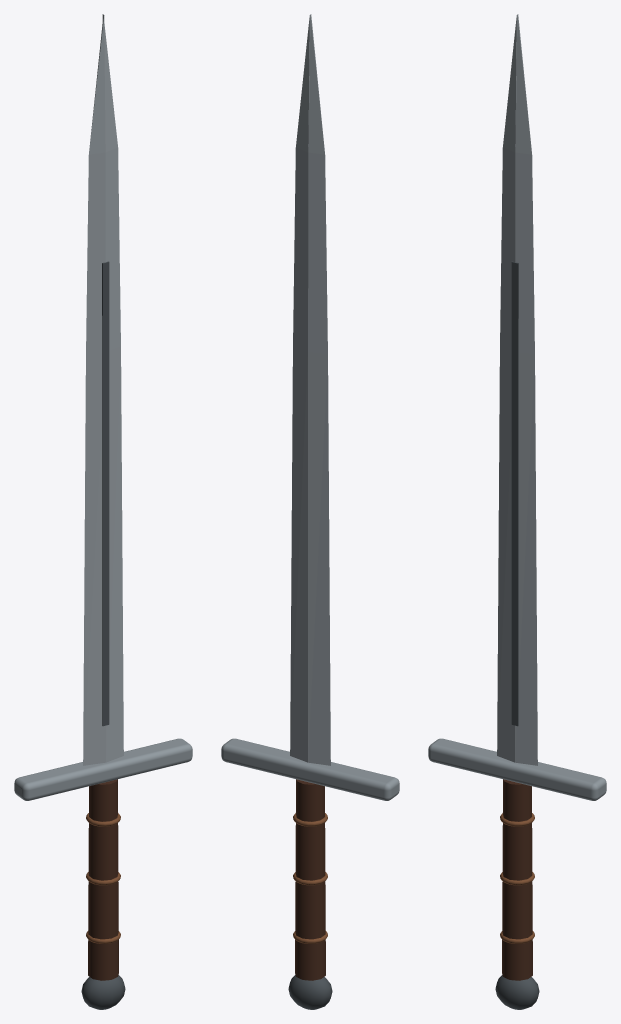
Rendered from longsword.glb.
The picture shows the model from 3 angles, left to right: view 1: azimuth 30°, elevation 25°; view 2: azimuth 150°, elevation 25°; view 3: azimuth 330°, elevation 25°; orthographic projection.
Parts seen in each view (by area): view 1: longsword-blade, longsword-grip, longsword-crossguard, longsword-fuller, longsword-pommel; view 2: longsword-blade, longsword-grip, longsword-crossguard, longsword-pommel; view 3: longsword-blade, longsword-grip, longsword-crossguard, longsword-fuller, longsword-pommel.
Boxes of the visible parts, x1,y1,x2,y2 form: longsword-blade: (83,14,123,765); longsword-grip: (88,779,118,980); longsword-crossguard: (14,738,192,800); longsword-fuller: (102,261,109,726); longsword-pommel: (81,975,125,1009); longsword-blade: (290,14,330,765); longsword-grip: (295,779,325,980); longsword-crossguard: (221,738,399,800); longsword-pommel: (288,975,332,1009); longsword-blade: (497,14,537,765); longsword-grip: (502,779,532,980); longsword-crossguard: (428,738,606,800); longsword-fuller: (511,261,518,726); longsword-pommel: (495,975,539,1009).
Size of the model in its own units: 0.1556 by 0.8699 by 0.0282.
